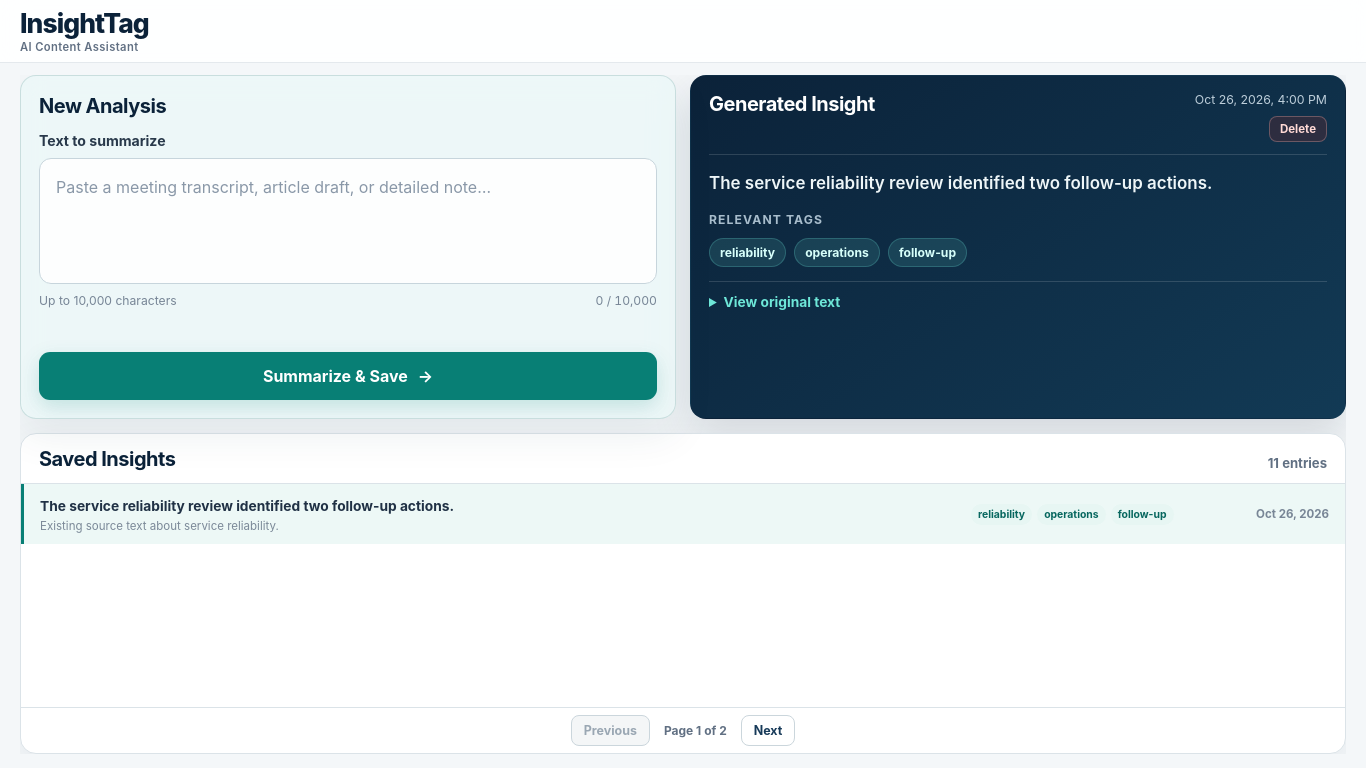
Test case: InsightTag smoke flow › returns to the previous page after deleting the only final-page item
Check: the text "Page 1 of 2" is shown, box [664,723,727,738]
Click the button "Next": (768, 730) [741,715,795,746]
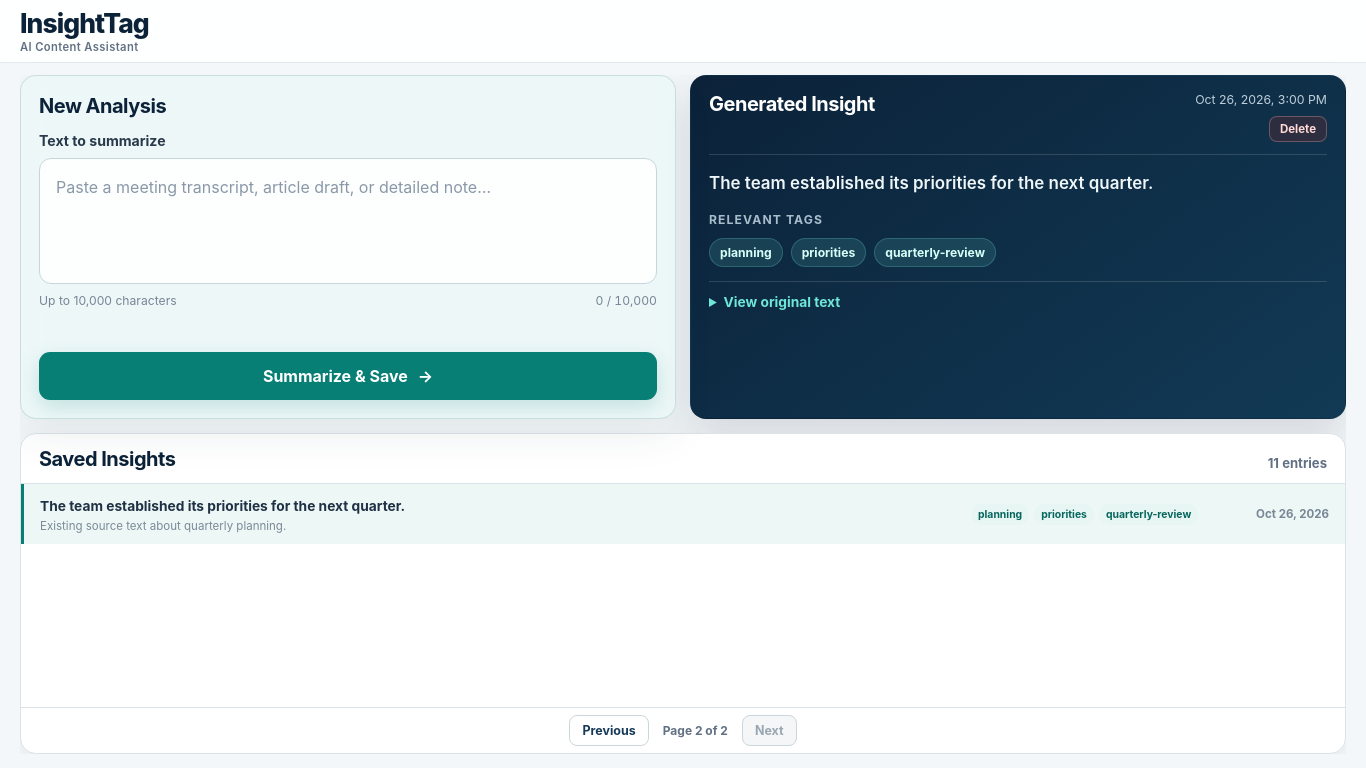
Check: the text "Page 2 of 2" is shown, box [663,723,728,738]
Check: the text "The team established its priorities for the next quarter." below "Generated Insight" is shown, box [709,172,1153,192]
Click the button "Delete": (1298, 128) [1269,116,1327,142]
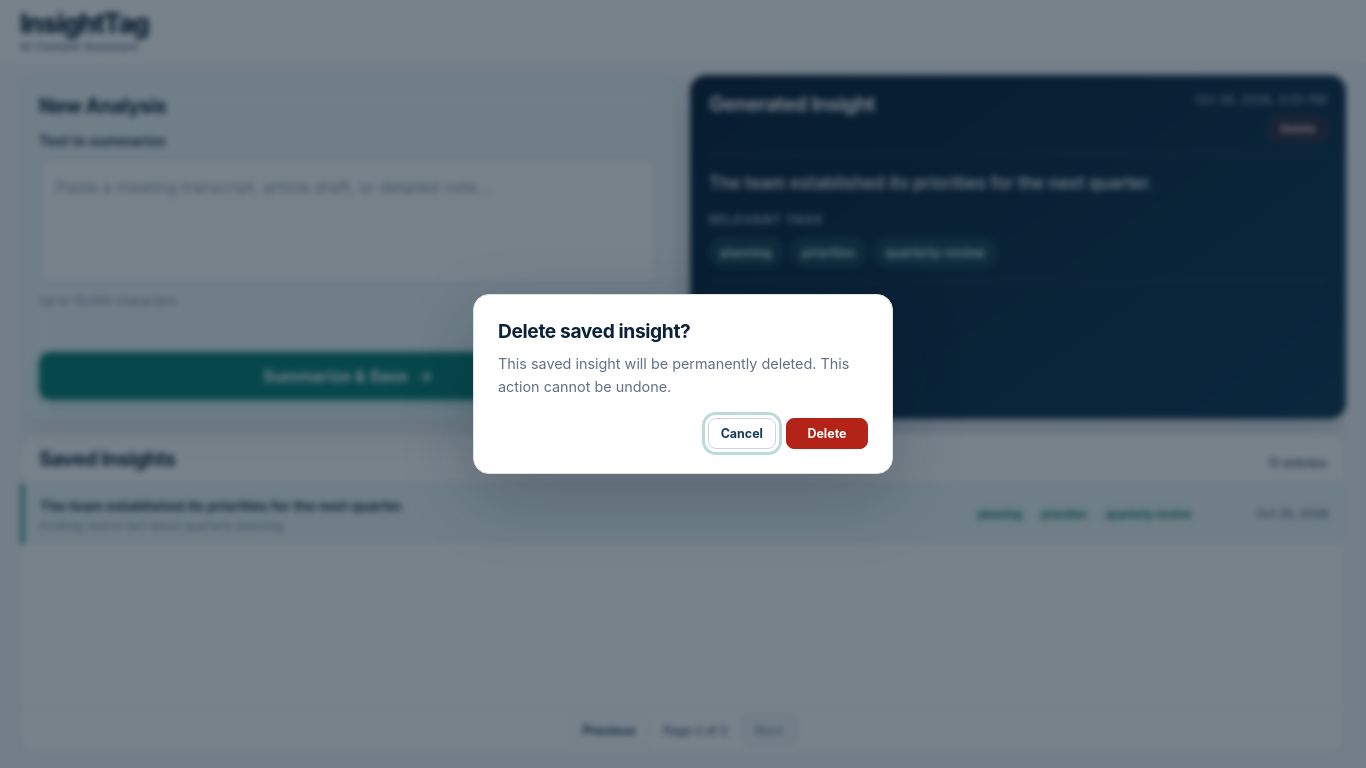
Click the button "Delete": (827, 433) [786,418,868,449]
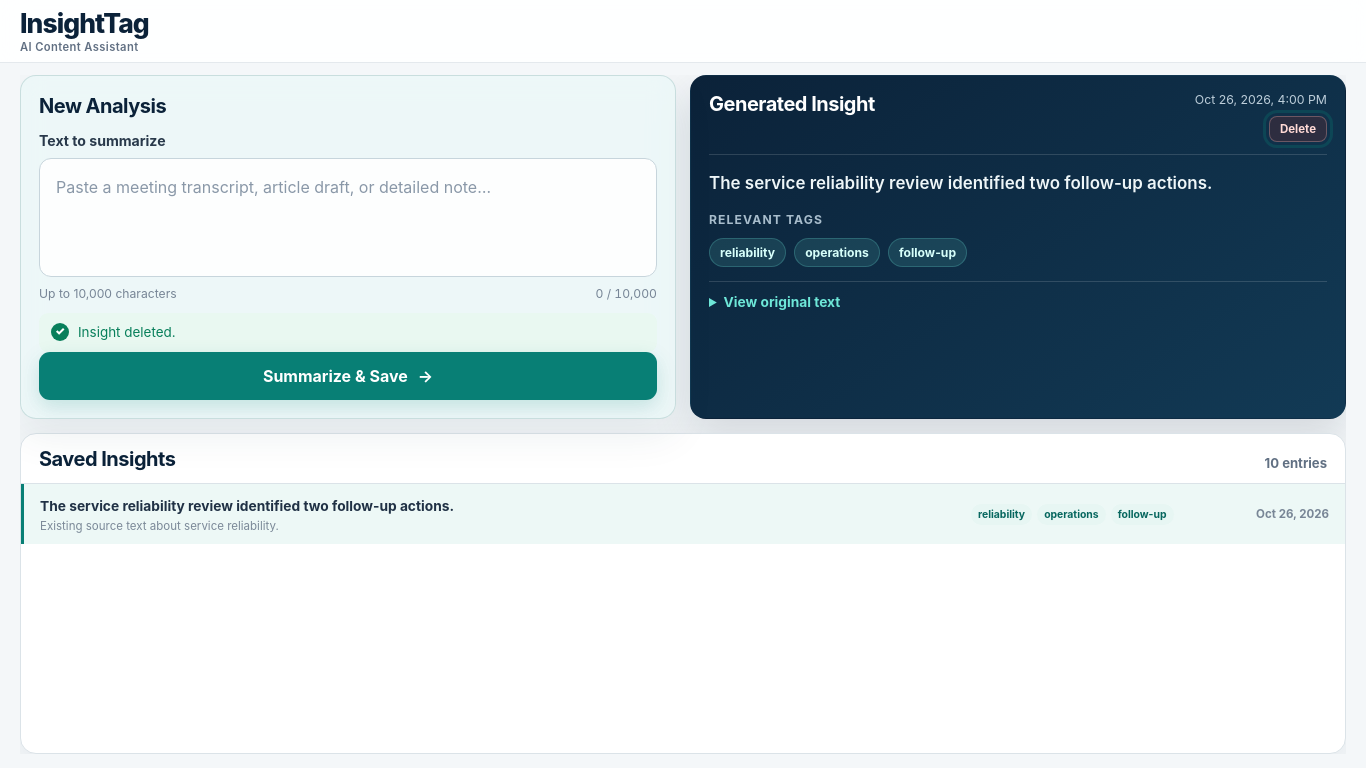
Check: the button "The service reliability review identified two follow-up actions." is shown, box [21,484,1345,544]
